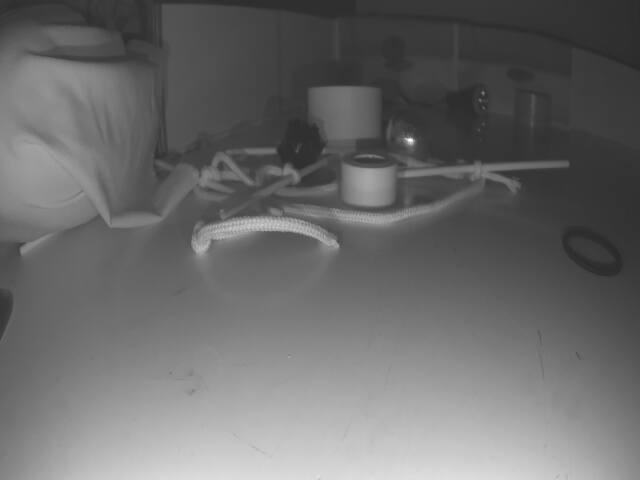Dead: (278, 121, 325, 170)
Live: (385, 112, 431, 159)
